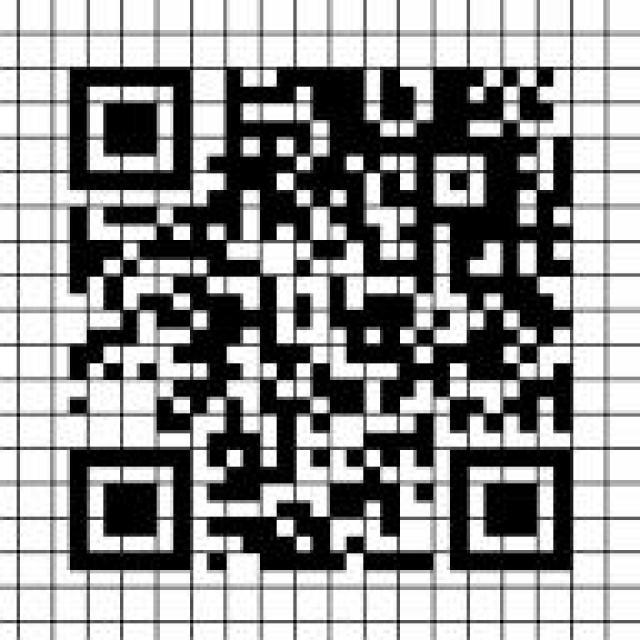qr_code: (69, 68, 574, 571)
